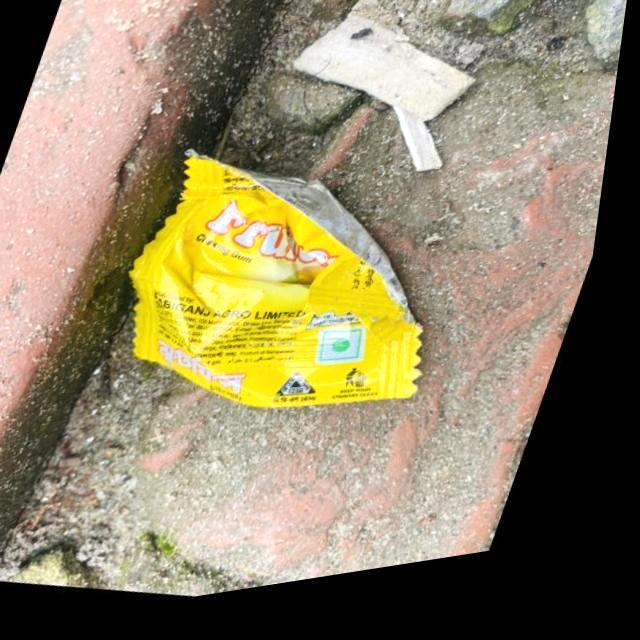packet: (163, 163, 405, 398)
